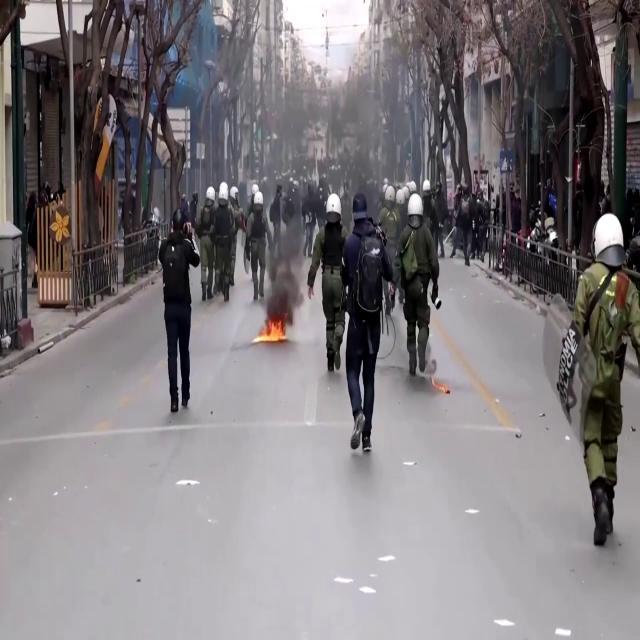Fire: (260, 308, 286, 345)
Smoke: (263, 223, 305, 308)
